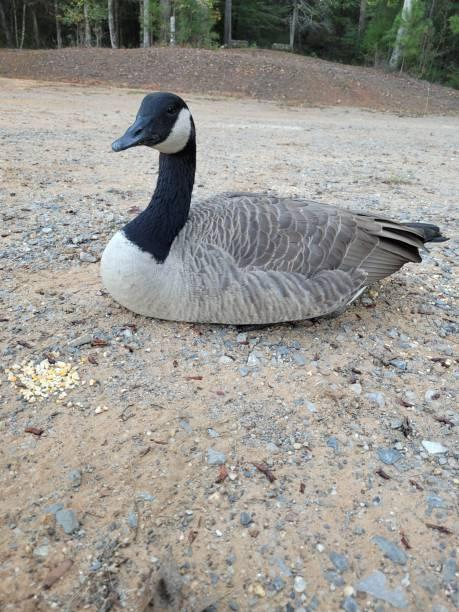Canadian-Goose: (101, 90, 439, 325)
